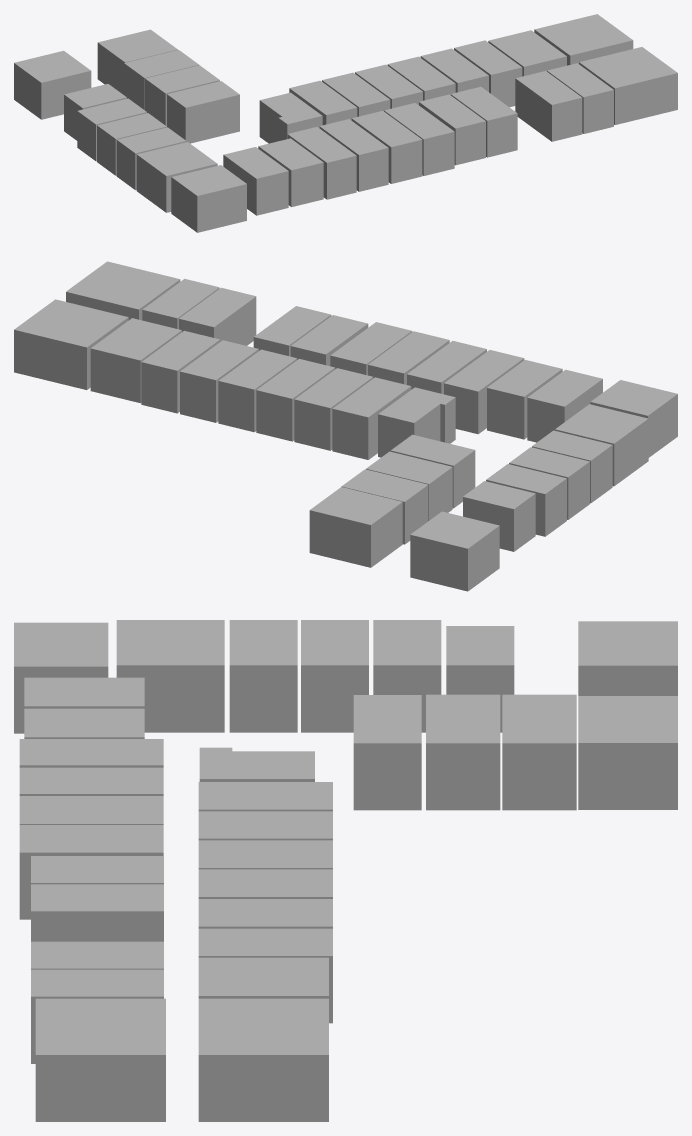
The model's file is fix_floor_scale.glb.
3 renders of one model, top to bottom at view 1: azimuth 30°, elevation 25°; view 2: azimuth 150°, elevation 25°; view 3: azimuth 270°, elevation 25°, orthographic. The views are drawn at different scales.
Parts seen in each view (by area): view 1: polySurface68, polySurface54, polySurface70, polySurface59, polySurface44, polySurface65, polySurface64, polySurface48, polySurface72, polySurface56, polySurface43, polySurface45 (+19 smaller); view 2: polySurface65, polySurface67, polySurface70, polySurface60, polySurface68, polySurface64, polySurface46, polySurface63, polySurface52, polySurface55, polySurface57, polySurface49 (+19 smaller); view 3: polySurface68, polySurface65, polySurface67, polySurface64, polySurface47, polySurface71, polySurface59, polySurface58, polySurface51, polySurface70, polySurface69, polySurface54 (+19 smaller).
Part boxes in pixels (x1=…): polySurface68: x1=579, y1=47, x2=677, y2=124; polySurface54: x1=171, y1=165, x2=246, y2=232; polySurface70: x1=14, y1=50, x2=91, y2=119; polySurface59: x1=167, y1=81, x2=239, y2=143; polySurface44: x1=515, y1=71, x2=582, y2=141; polySurface65: x1=534, y1=14, x2=633, y2=65; polySurface64: x1=136, y1=142, x2=217, y2=212; polySurface48: x1=223, y1=147, x2=288, y2=215; polySurface72: x1=351, y1=110, x2=422, y2=183; polySurface56: x1=287, y1=127, x2=356, y2=199; polySurface43: x1=384, y1=103, x2=454, y2=175; polySurface45: x1=319, y1=119, x2=388, y2=191; polySurface65: x1=14, y1=299, x2=128, y2=389; polySurface67: x1=309, y1=487, x2=402, y2=567; polySurface70: x1=410, y1=511, x2=499, y2=591; polySurface60: x1=90, y1=318, x2=181, y2=403; polySurface68: x1=66, y1=261, x2=180, y2=320; polySurface64: x1=555, y1=404, x2=648, y2=486; polySurface46: x1=378, y1=387, x2=455, y2=457; polySurface63: x1=332, y1=377, x2=411, y2=459; polySurface52: x1=463, y1=481, x2=535, y2=551; polySurface55: x1=141, y1=330, x2=220, y2=413; polySurface57: x1=180, y1=340, x2=258, y2=422; polySurface49: x1=294, y1=368, x2=373, y2=450; polySurface68: x1=35, y1=998, x2=165, y2=1121; polySurface65: x1=198, y1=998, x2=328, y2=1121; polySurface67: x1=578, y1=696, x2=677, y2=809; polySurface64: x1=116, y1=620, x2=224, y2=732; polySurface47: x1=502, y1=694, x2=576, y2=810; polySurface71: x1=426, y1=694, x2=500, y2=810; polySurface59: x1=353, y1=695, x2=421, y2=810; polySurface58: x1=229, y1=620, x2=297, y2=732; polySurface51: x1=31, y1=884, x2=163, y2=941; polySurface70: x1=578, y1=621, x2=677, y2=695; polySurface69: x1=301, y1=620, x2=368, y2=732; polySurface54: x1=14, y1=622, x2=108, y2=733.
Bounding box in the file's own units: 18.33 × 1.32 × 11.83.
Materials: 1 (1 with a texture image).
